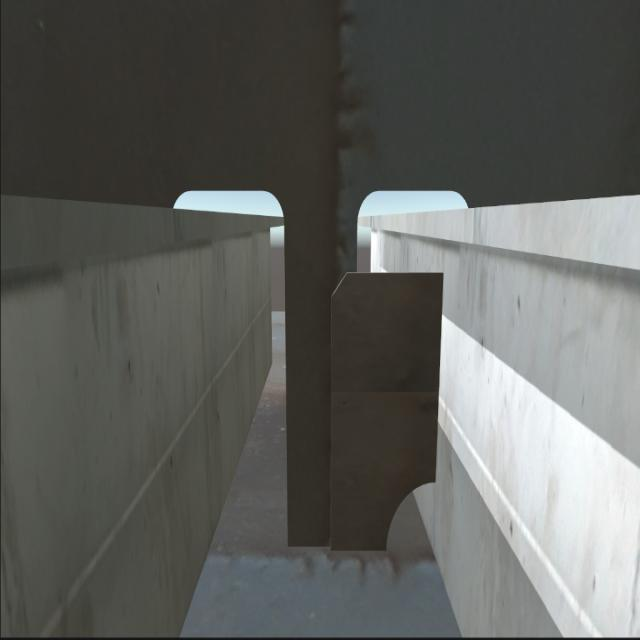fillet_hole: (386, 488, 438, 555)
fillet_yong_jeop_jang: (278, 526, 390, 570)
longi_yong_jeop_jang: (424, 265, 445, 479)
plate_CP03: (328, 273, 440, 556)
